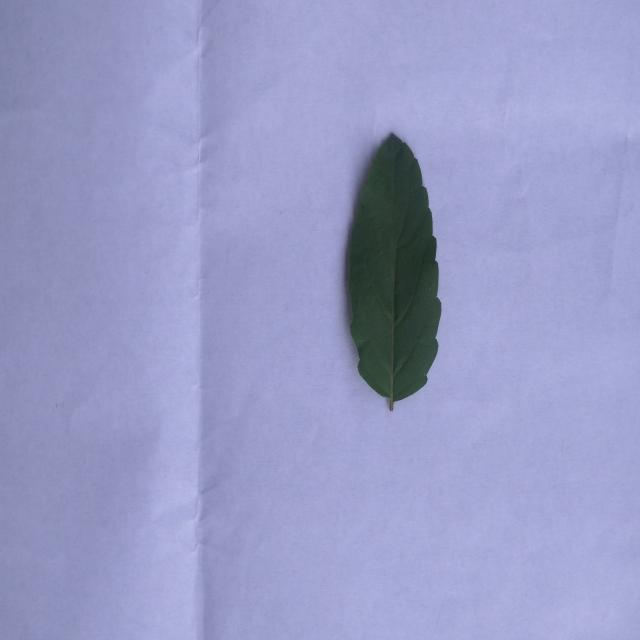tulsi: (349, 136, 441, 411)
